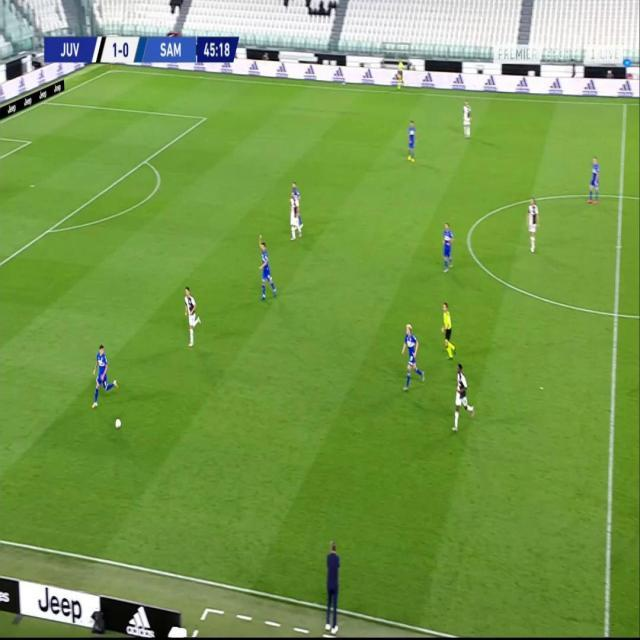ball: (114, 416, 122, 431)
player: (401, 321, 425, 392), (93, 341, 118, 407), (452, 359, 474, 432), (259, 237, 279, 304), (182, 284, 201, 349), (526, 196, 540, 255), (441, 220, 455, 273), (588, 154, 601, 206), (287, 193, 299, 244), (406, 118, 418, 163), (462, 100, 473, 140), (291, 181, 304, 197)
referee: (440, 300, 456, 361), (396, 59, 405, 88)
